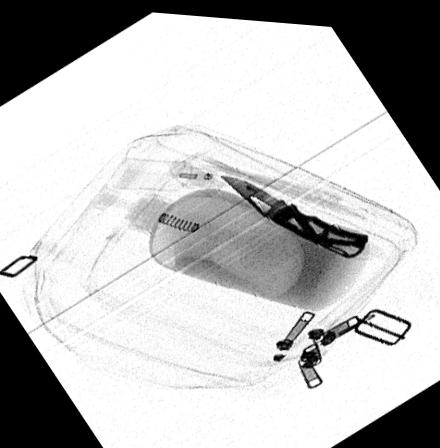Knife: (218, 168, 368, 252)
